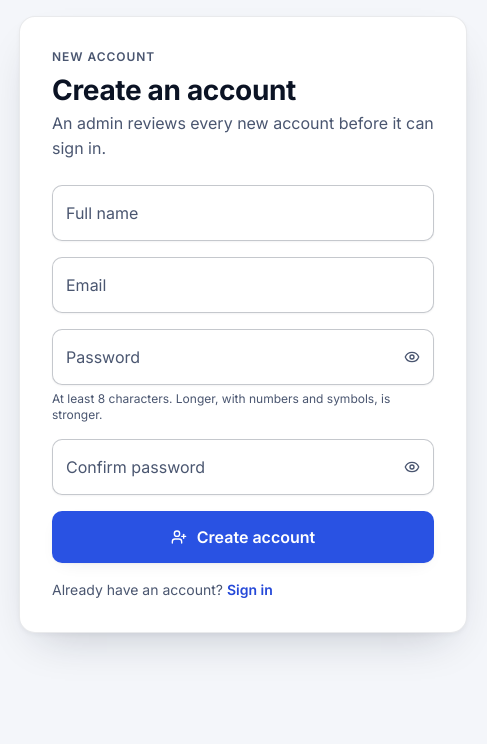
it: SignupPage › rejects a taken email without saying it is taken
Type "New Person" into the field labelled "Full name" at (243, 213), box left=52, top=185, right=434, bottom=241
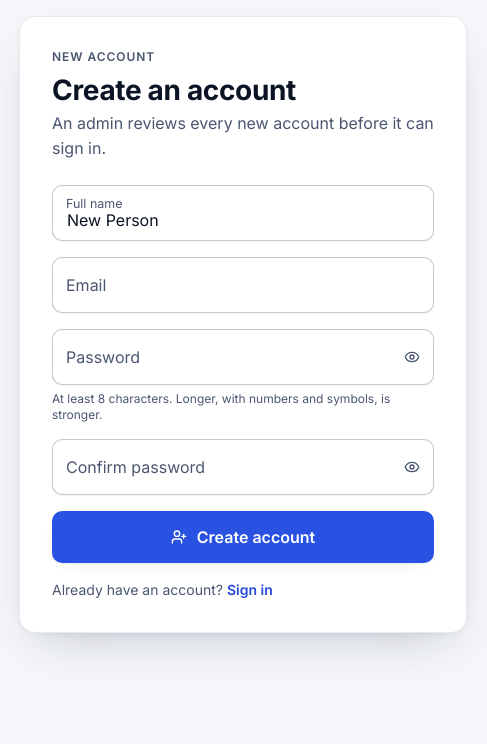
Type "new@example.org" into the field labelled "Email" at (243, 285), box left=52, top=257, right=434, bottom=313
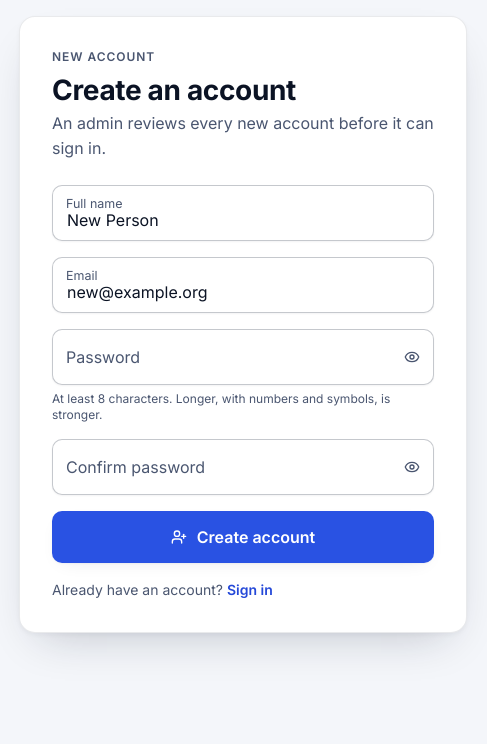
Type "Str0ng-pass" into the password field labelled "Password" at (243, 357), box left=52, top=329, right=434, bottom=385
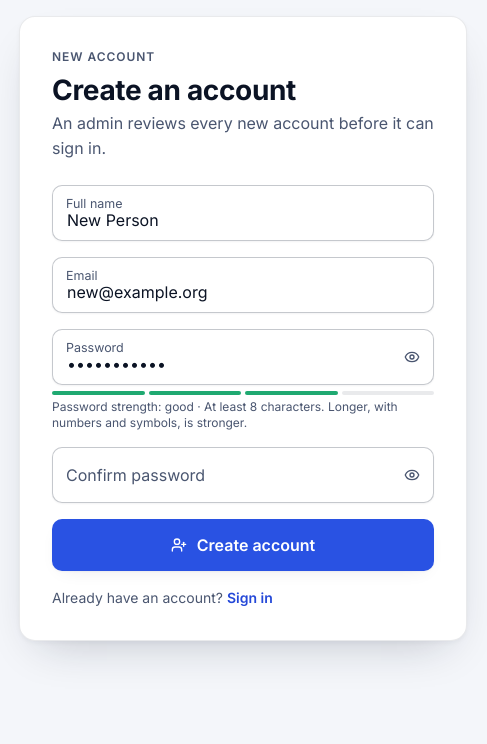
Type "Str0ng-pass" into the password field labelled "Confirm password" at (243, 475), box left=52, top=447, right=434, bottom=503
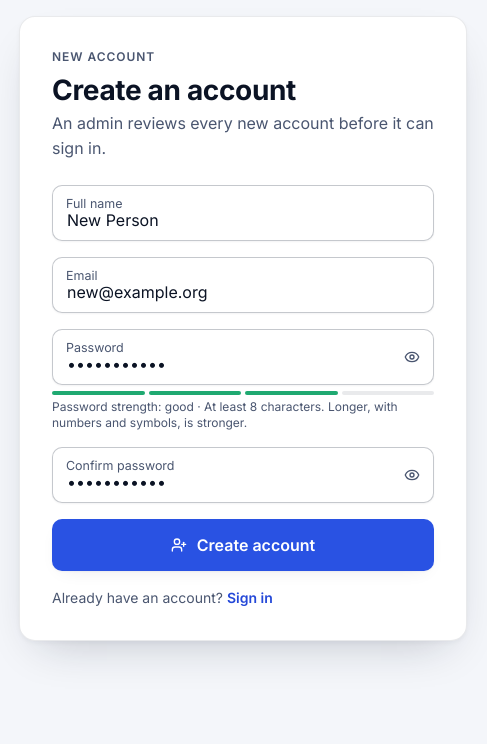
Click the button with test id "signup-submit" at (243, 545), box left=52, top=519, right=434, bottom=571
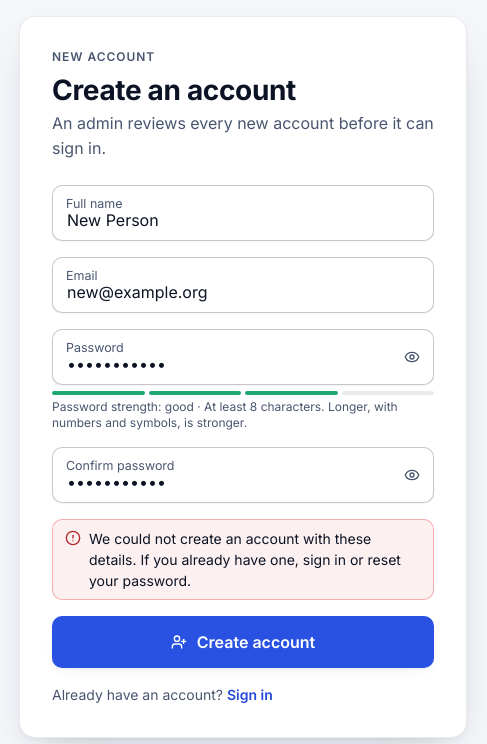
expect the message shows "We could not create an account with these details.": met, box left=89, top=530, right=401, bottom=589
